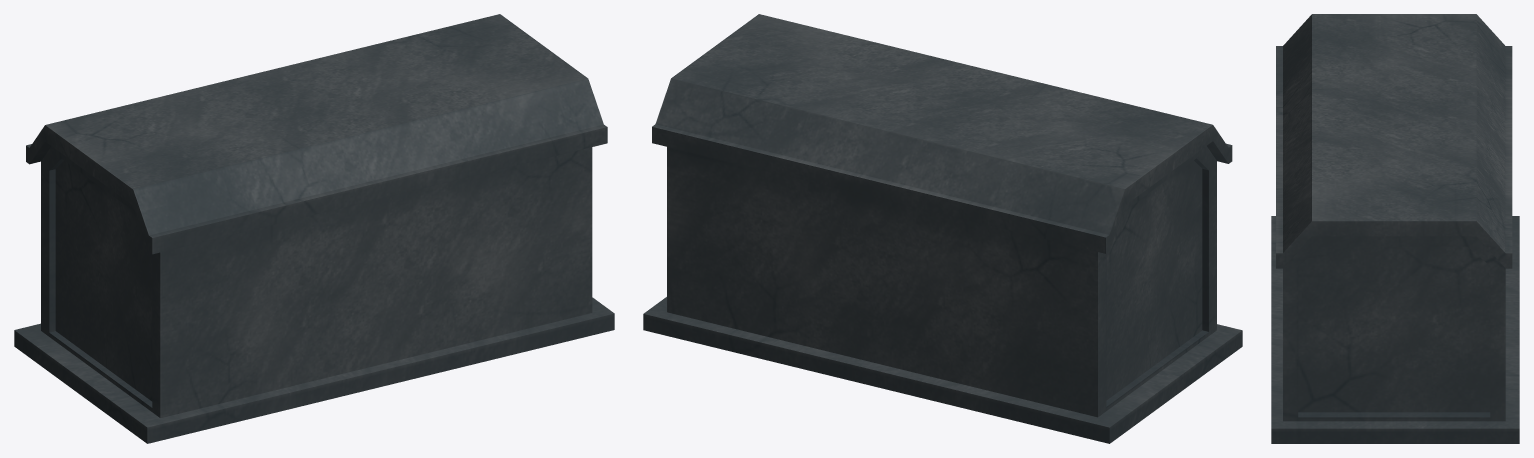
The model's file is RaisedGrave3_Model.fbx.
3 views of the same model, side by side, from view 1: azimuth 30°, elevation 25°; view 2: azimuth 150°, elevation 25°; view 3: azimuth 270°, elevation 25° (orthographic). The views are drawn at different scales.
Parts seen in each view (by area): view 1: Box050; view 2: Box050; view 3: Box050.
Part boxes in pixels (x1,y1,x2,y2): Box050: (14, 14, 614, 443); Box050: (643, 14, 1242, 443); Box050: (1271, 14, 1519, 443).
Size of the model in its own units: 168 by 81.12 by 82.81.
